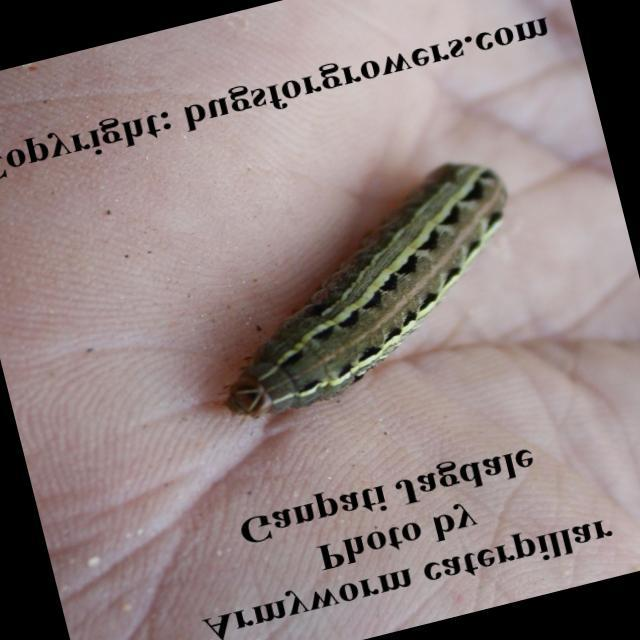Plaga: (167, 133, 564, 444)
